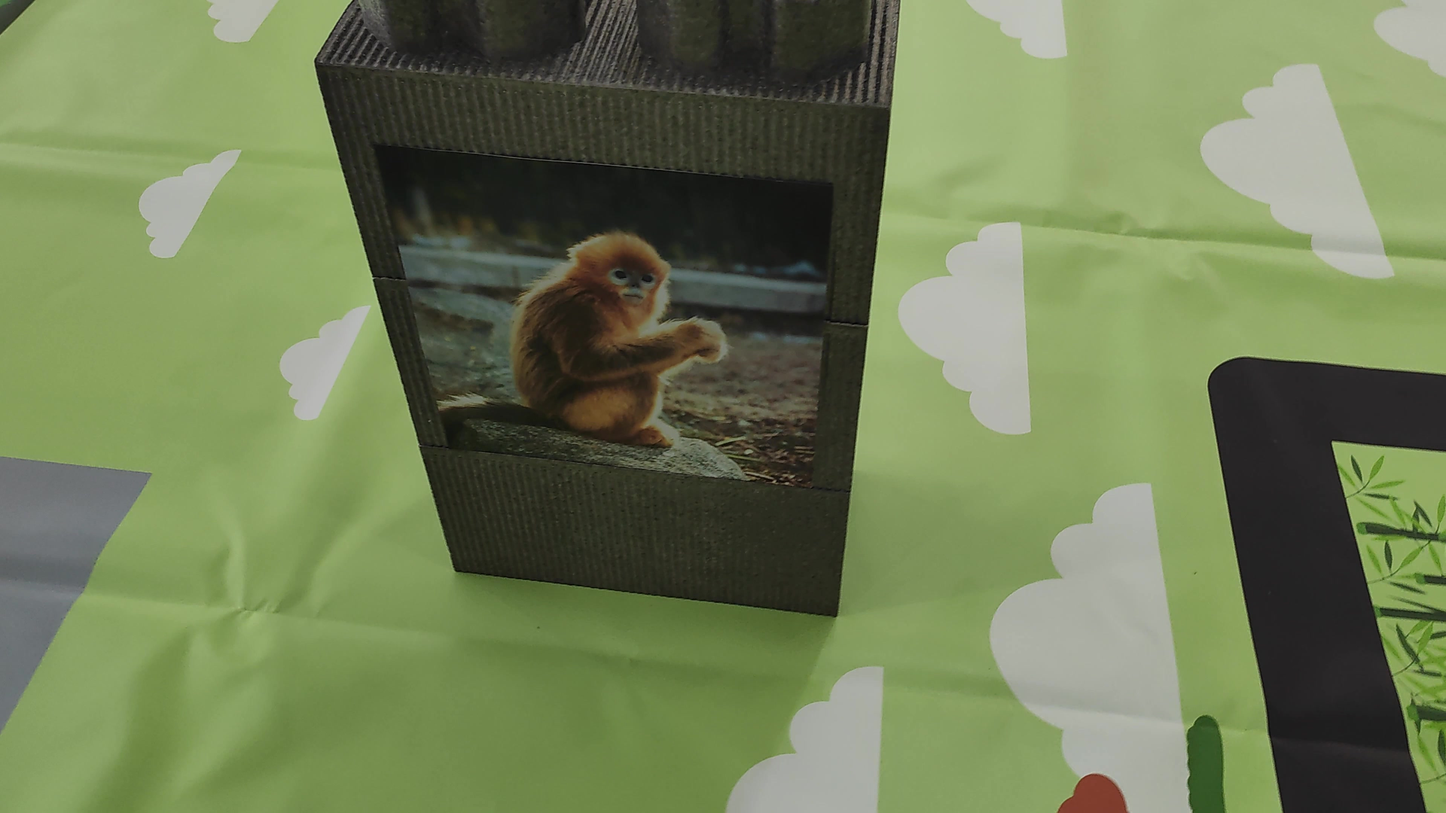monkey: (471, 211, 756, 487)
